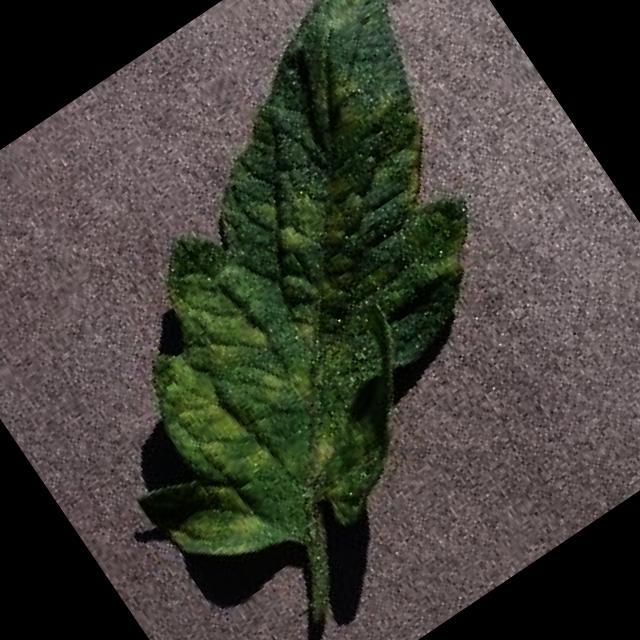Tomato mold leaf: (0, 0, 640, 609)
